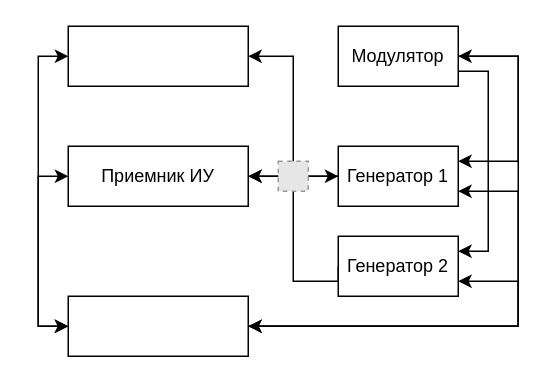
This 558x383 diagram has some shape labels left out. Grey dashed boxes stand in for pictures. Each missing label, with the centre of its shape:
"Анализатор спектра" belongs at point 157,55.
"Компьютер" belongs at point 157,325.
